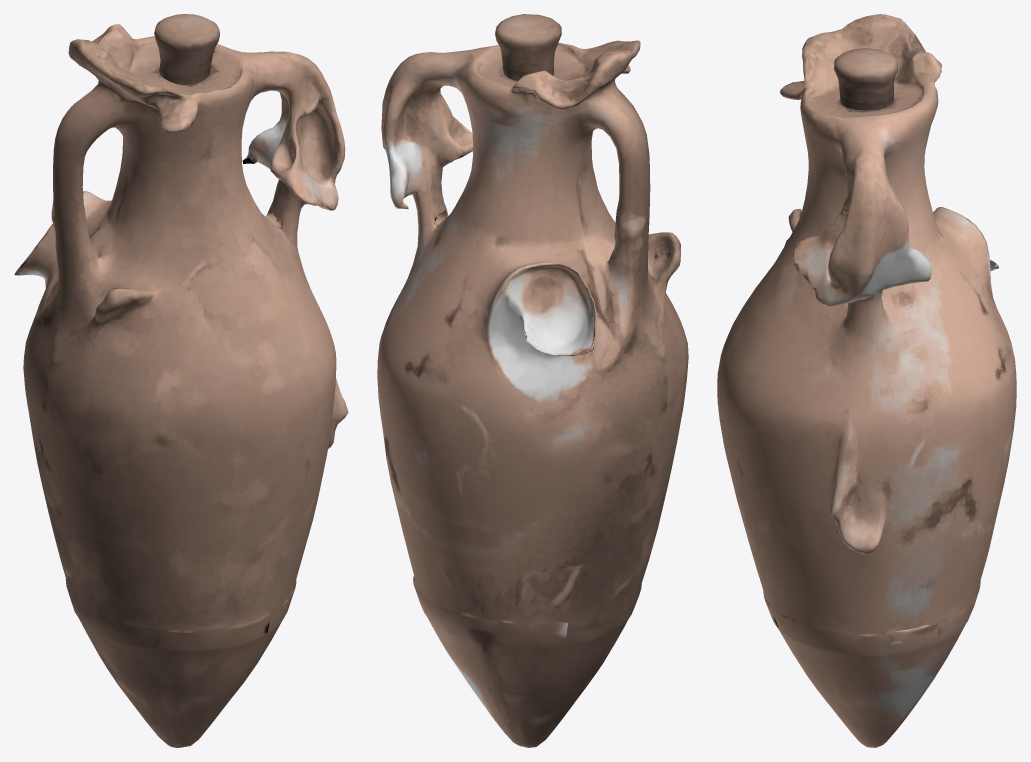
Rendered from amphora.glb.
3 views of the same model, side by side, from view 1: azimuth 30°, elevation 25°; view 2: azimuth 150°, elevation 25°; view 3: azimuth 270°, elevation 25° (orthographic). The views are drawn at different scales.
Visible parts, largest first — view 1: geometry_0; view 2: geometry_0; view 3: geometry_0.
Boxes of the visible parts, bbox=[...] form: geometry_0: bbox=[14, 14, 348, 747]; geometry_0: bbox=[377, 14, 688, 747]; geometry_0: bbox=[717, 14, 1016, 747].
Size of the model in its own units: 0.4162 by 0.9992 by 0.3945.
Materials: 1 (1 with a texture image).
